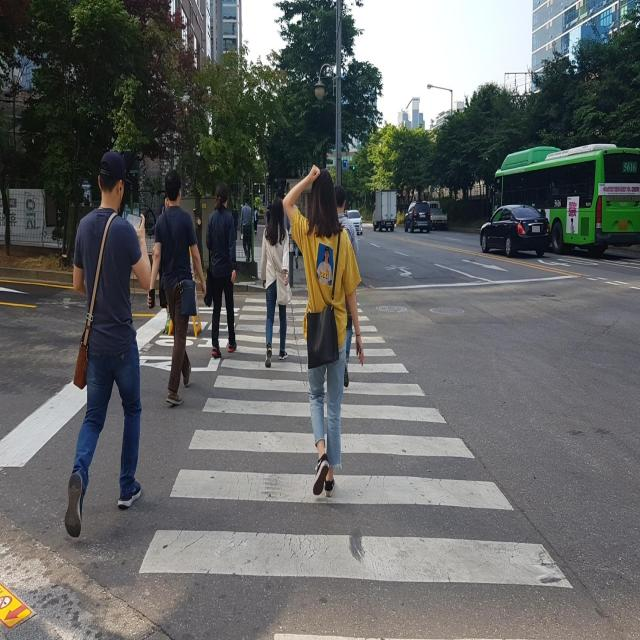횡단보도: (136, 295, 575, 640)
